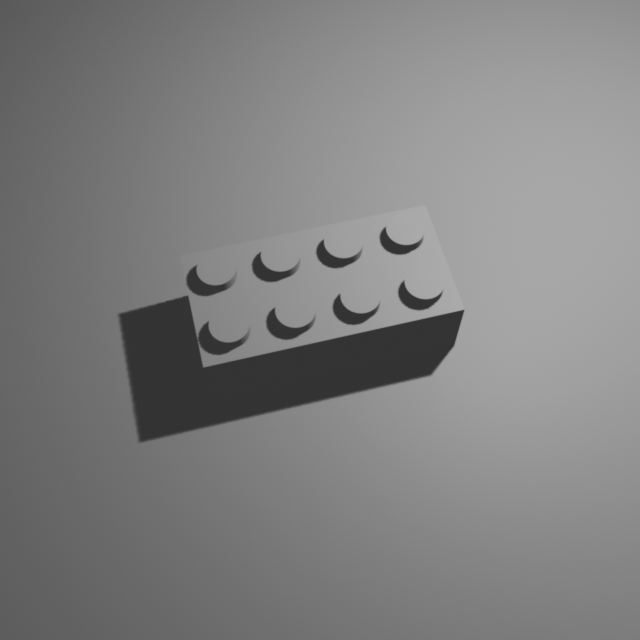lego_2x4: (178, 197, 467, 401)
